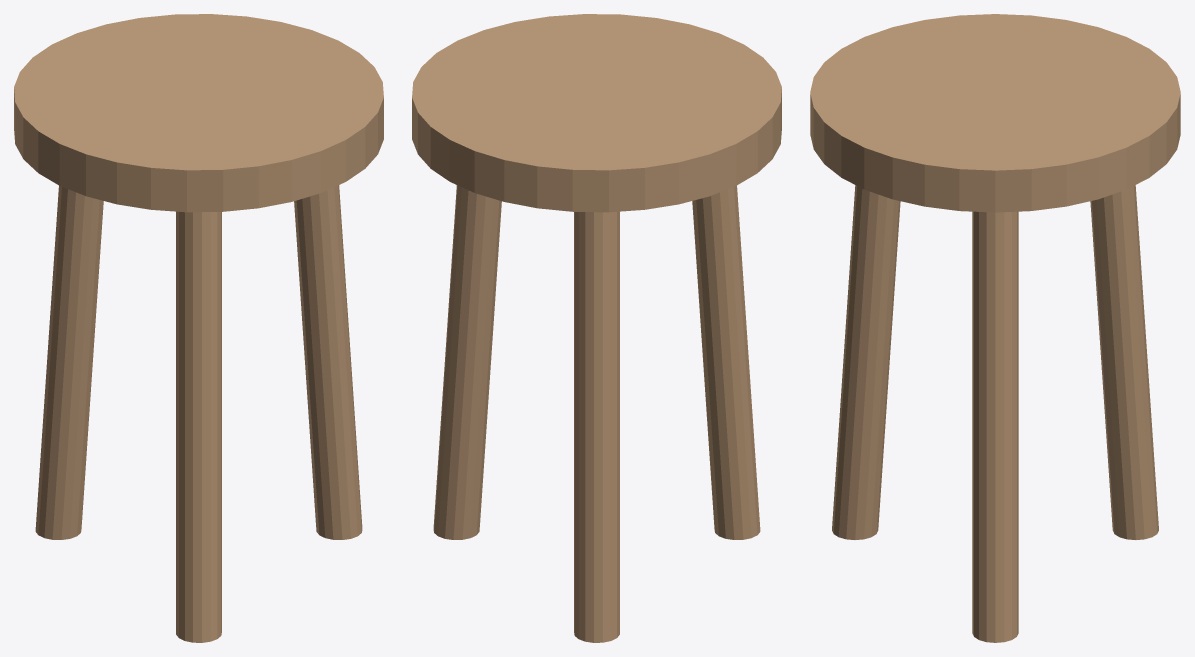
Rendered from three_leg_stool_v5.glb.
3 views of the same model, side by side, from view 1: azimuth 30°, elevation 25°; view 2: azimuth 150°, elevation 25°; view 3: azimuth 270°, elevation 25° (orthographic).
Visible parts, largest first — view 1: Stool; view 2: Stool; view 3: Stool.
Boxes of the visible parts, x1,y1,x2,y2 form: Stool: (14, 14, 383, 642); Stool: (412, 14, 781, 642); Stool: (810, 14, 1180, 642).
Size of the model in its own units: 0.32 by 0.45 by 0.32.
